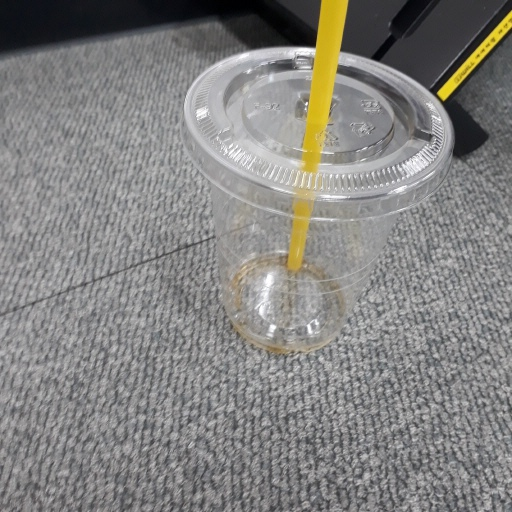Plastic_2: (181, 1, 452, 359)
